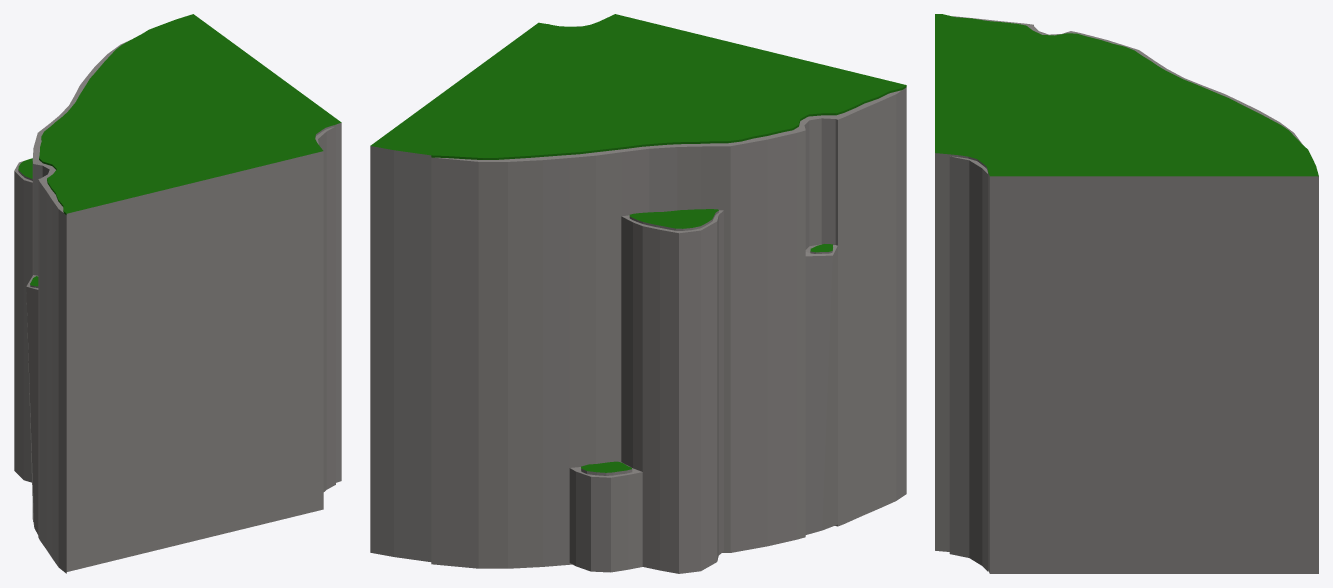
The model's file is CornerPath.fbx.
3 renders of one model, left to right at view 1: azimuth 30°, elevation 25°; view 2: azimuth 150°, elevation 25°; view 3: azimuth 270°, elevation 25°, orthographic. The views are drawn at different scales.
Visible parts, largest first — view 1: Plane.016; view 2: Plane.016; view 3: Plane.016.
Boxes of the visible parts, x1,y1,x2,y2 form: Plane.016: [14, 14, 341, 573]; Plane.016: [370, 14, 906, 573]; Plane.016: [935, 14, 1318, 573].
Size of the model in its own units: 87.5 by 101 by 87.5.
